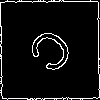C: (25, 25, 83, 83)
